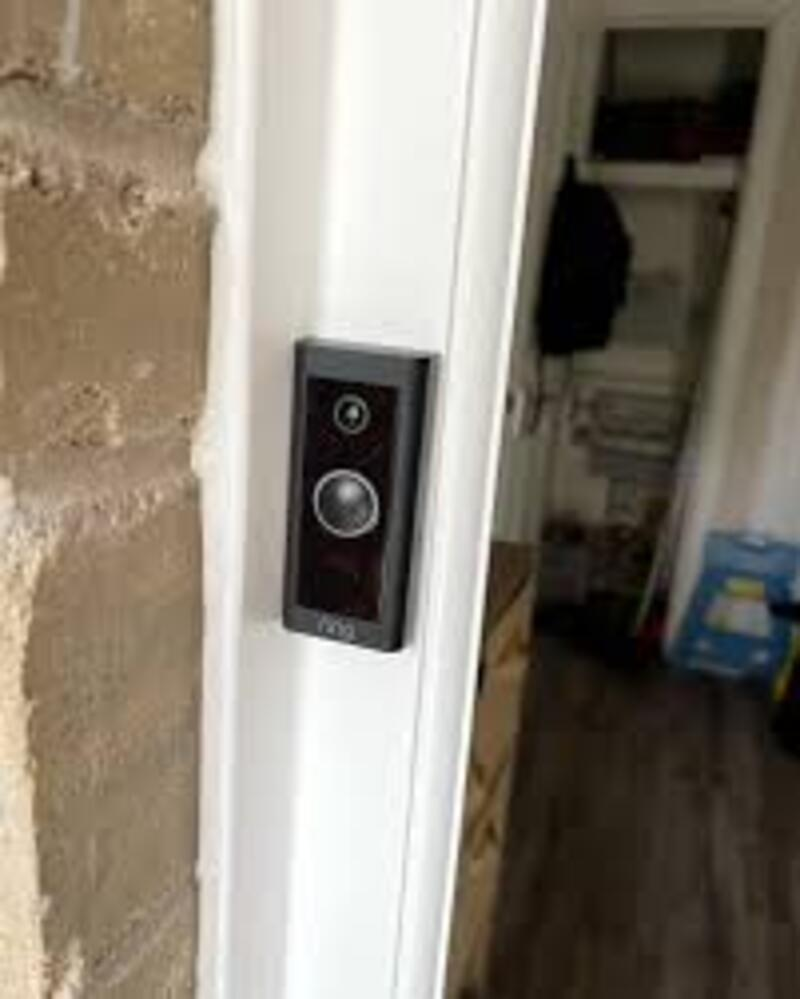doorbell: (277, 313, 436, 666)
